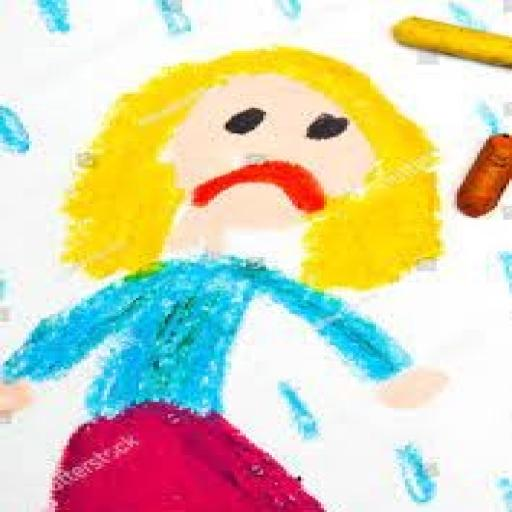person: (0, 44, 453, 510)
